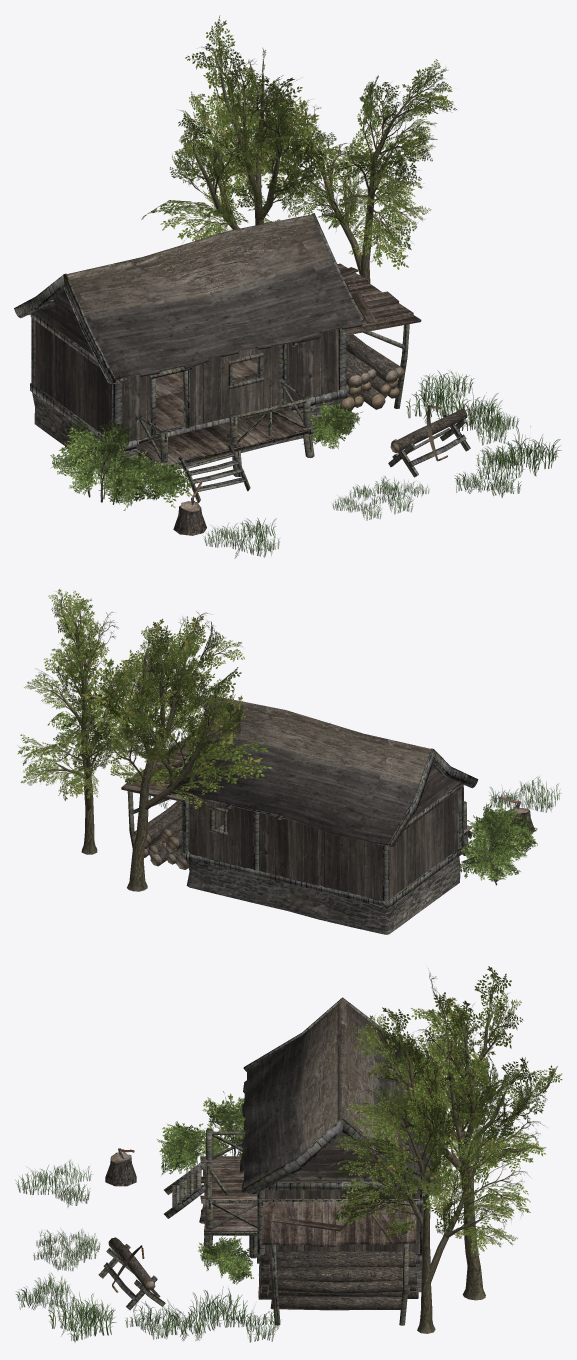
The model's file is chata_drwala.glb.
The picture shows the model from 3 angles, top to bottom: view 1: azimuth 30°, elevation 25°; view 2: azimuth 150°, elevation 25°; view 3: azimuth 270°, elevation 25°; orthographic projection. The views are drawn at different scales.
Parts seen in each view (by area): view 1: korpus, dach, drzewa2, drzewa1, trawa, krzak3, krzak2, krzak1; view 2: korpus, dach, drzewa2, drzewa1, krzak3, trawa, krzak2; view 3: korpus, dach, drzewa2, drzewa1, trawa, krzak2, krzak3, krzak1.
Part boxes in pixels (box(x1,y1,x2,y2)): korpus: box(30, 213, 470, 535); dach: box(14, 214, 362, 383); drzewa2: box(141, 15, 331, 243); drzewa1: box(254, 59, 457, 283); trawa: box(203, 370, 561, 558); krzak3: box(50, 419, 150, 504); krzak2: box(104, 452, 192, 510); krzak1: box(302, 401, 362, 449); korpus: box(121, 694, 534, 934); dach: box(170, 696, 478, 846); drzewa2: box(81, 611, 272, 891); drzewa1: box(17, 588, 158, 854); krzak3: box(456, 803, 526, 885); trawa: box(149, 776, 561, 812); krzak2: box(467, 804, 537, 853); korpus: box(98, 1117, 443, 1325); dach: box(240, 997, 441, 1192); drzewa2: box(353, 966, 562, 1300); drzewa1: box(330, 1080, 546, 1333); trawa: box(15, 1160, 281, 1342); krzak2: box(156, 1121, 205, 1174); krzak3: box(194, 1091, 245, 1156); krzak1: box(197, 1234, 253, 1284).
Bounding box in the file's own units: 18.14 × 12.38 × 18.59.
9 materials, 9 textured.
